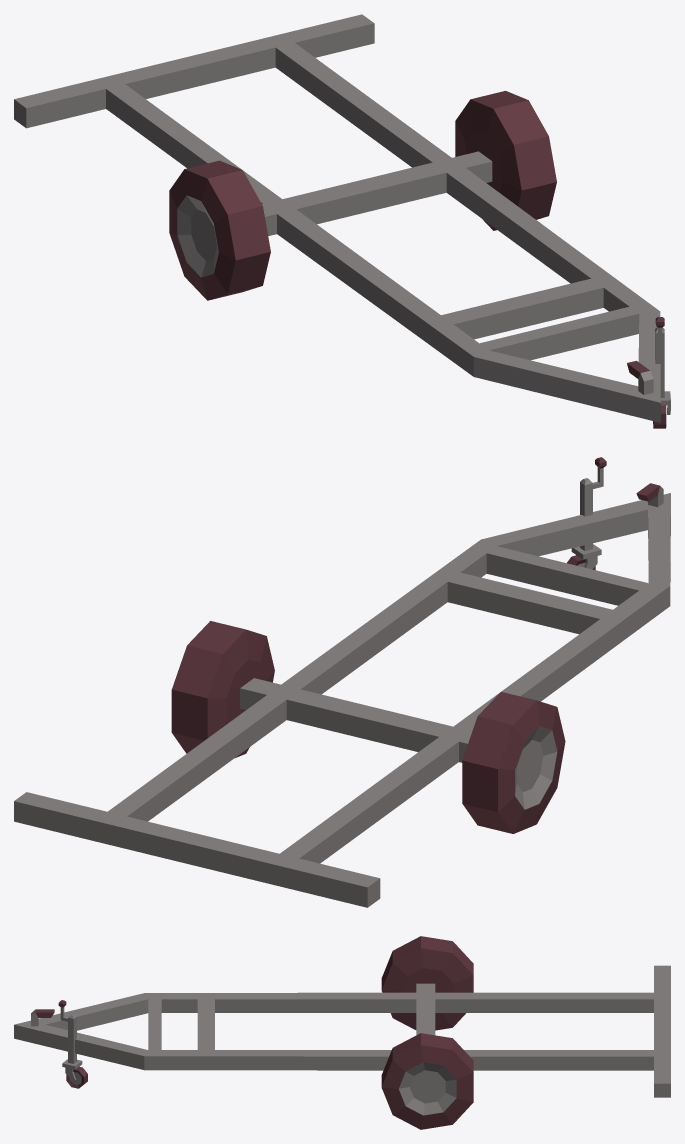
Rendered from trailer-big-case.fbx.
The picture shows the model from 3 angles, top to bottom: view 1: azimuth 30°, elevation 25°; view 2: azimuth 150°, elevation 25°; view 3: azimuth 270°, elevation 25°; orthographic projection. The views are drawn at different scales.
Visible parts, largest first — view 1: trailer-big-case; view 2: trailer-big-case; view 3: trailer-big-case.
Boxes of the visible parts, x1,y1,x2,y2 form: trailer-big-case: [14, 14, 670, 428]; trailer-big-case: [14, 457, 670, 907]; trailer-big-case: [14, 936, 670, 1129].
Bounding box in the file's own units: 2.11 × 0.7178 × 4.96.
